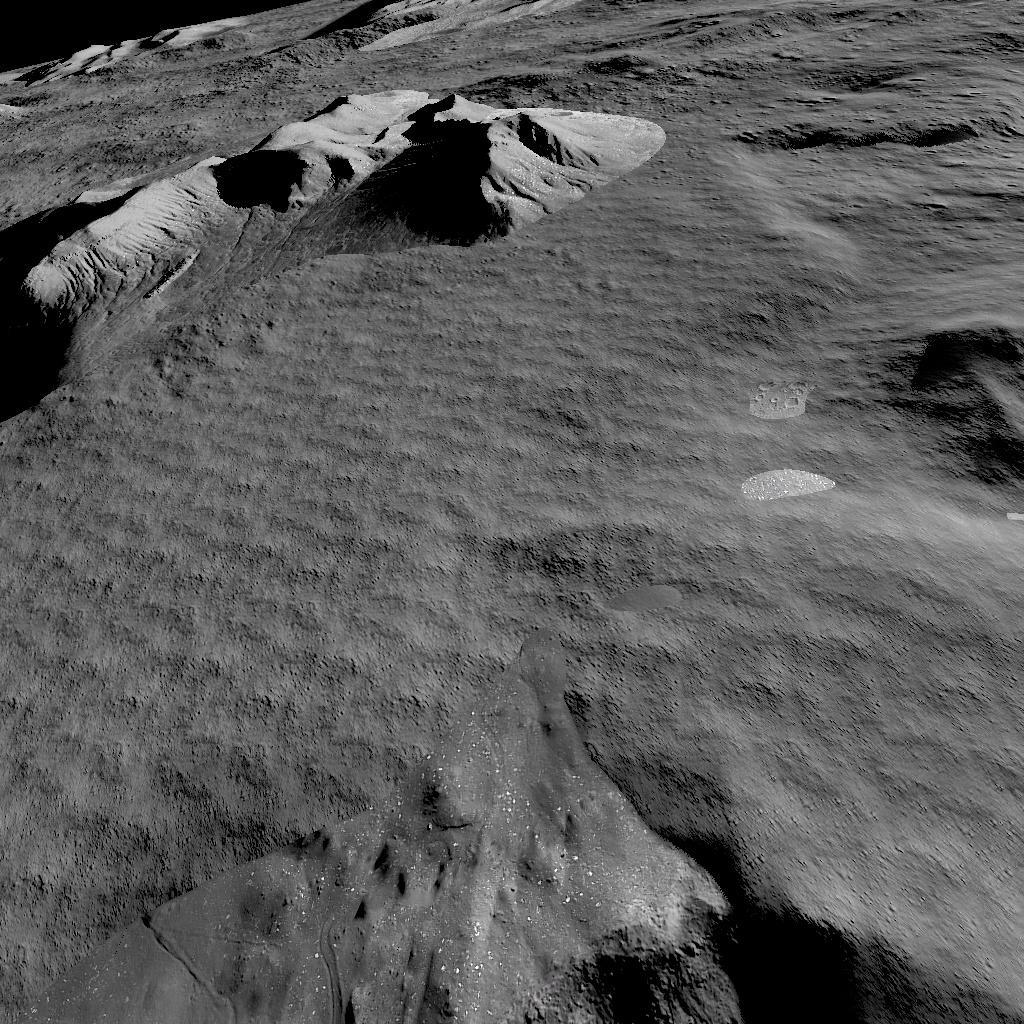Boulders: (0, 75, 673, 413)
Crater: (0, 740, 1024, 1024), (918, 310, 1024, 503)
Plan surface: (0, 428, 905, 726)
